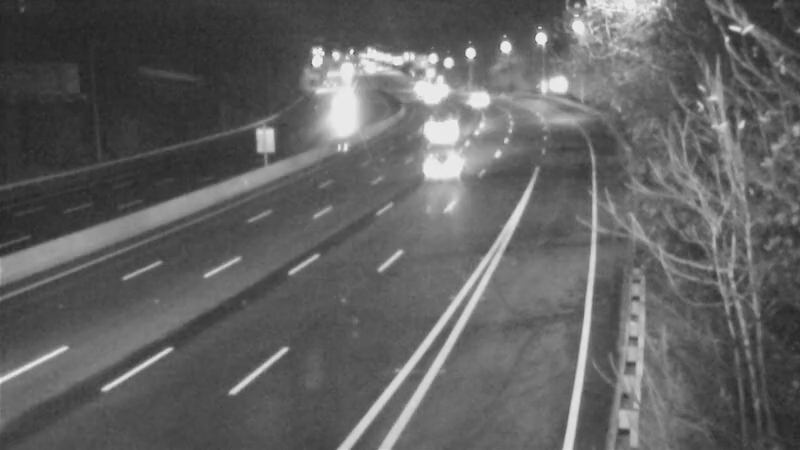vehicle: (402, 130, 482, 210), (391, 62, 441, 112), (405, 72, 455, 122), (451, 70, 501, 120), (415, 103, 465, 153)
